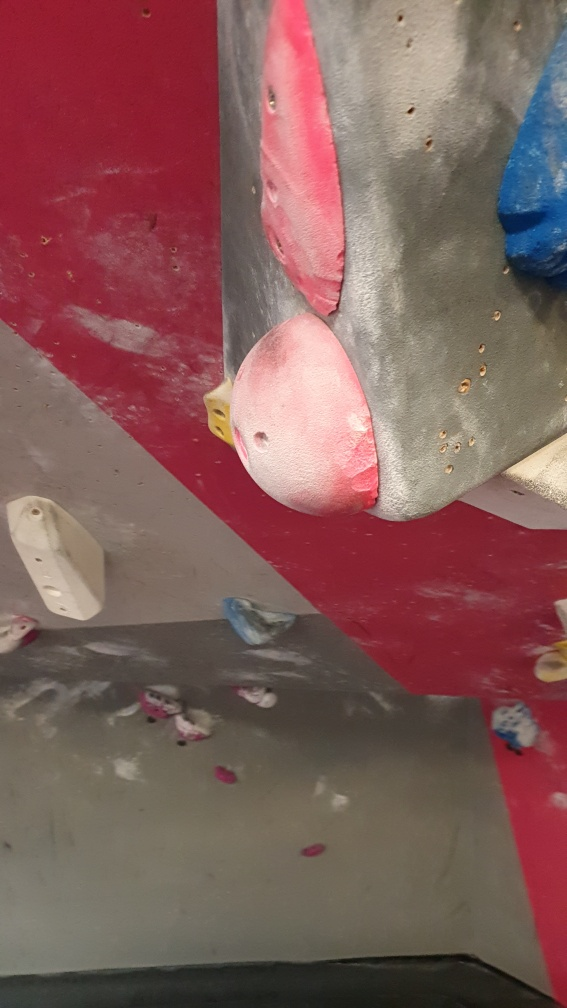Jug: (219, 591, 303, 652)
Pinch: (4, 495, 109, 621)
Sloper: (227, 309, 382, 519)
